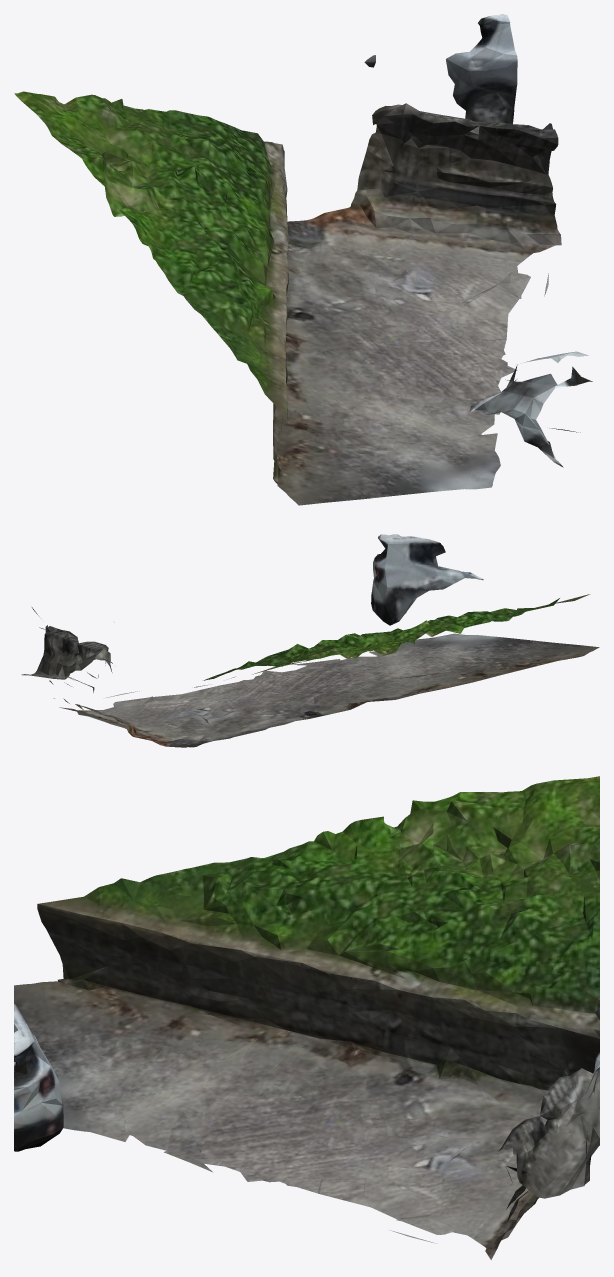
3 renders of one model, top to bottom at view 1: azimuth 30°, elevation 25°; view 2: azimuth 150°, elevation 25°; view 3: azimuth 270°, elevation 25°, orthographic. The views are drawn at different scales.
Size of the model in its own units: 6.7 by 3.02 by 6.7.
Materials: 3 (3 with a texture image).
